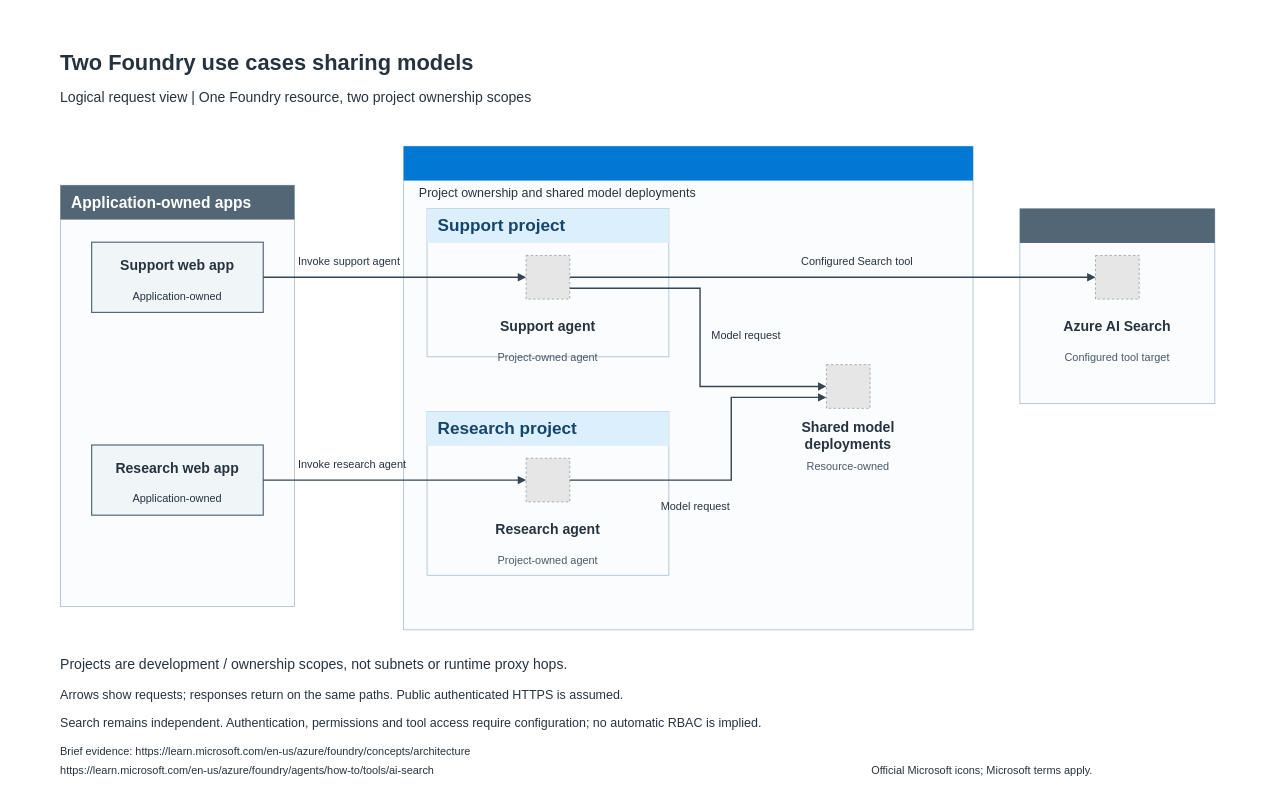
Image size: 1275x807. Some labels were removed from this diagram. Grey dashed boxes stand in for pictures. The shapes that lost their labels are listed below. From the top down, each one's box as (x1, y1, x2, y2) in pixels, then its label:
(403, 146, 973, 180): Foundry resource
(1019, 208, 1214, 243): Independent resource
